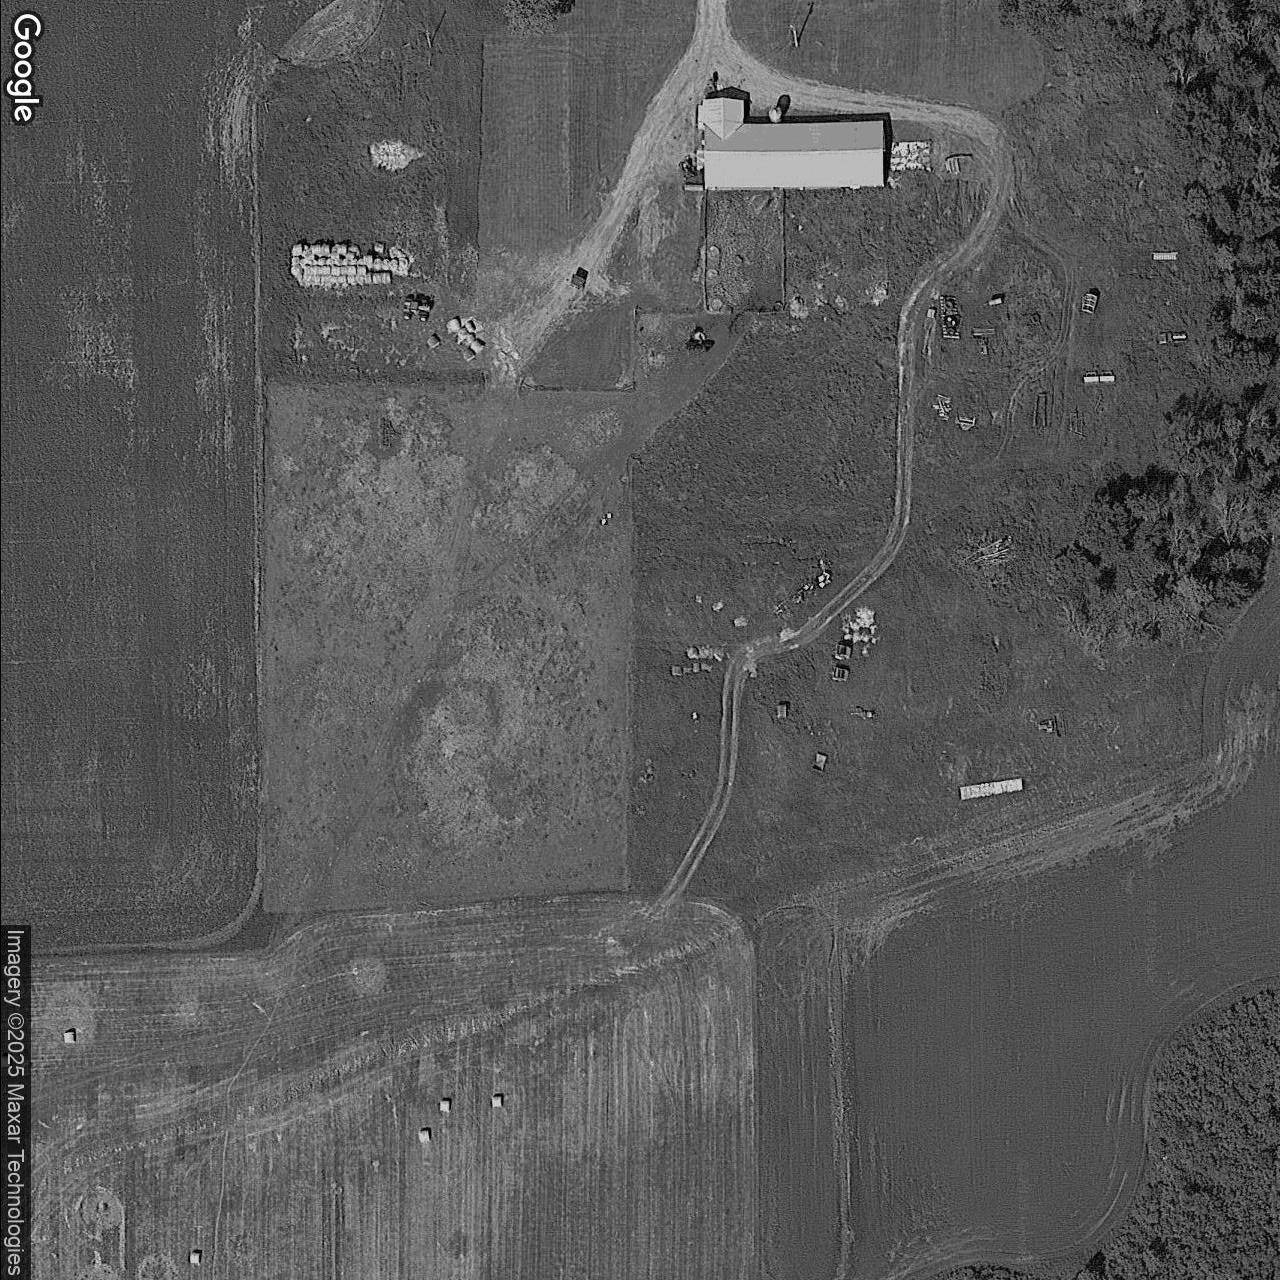House: (702, 97, 884, 190)
